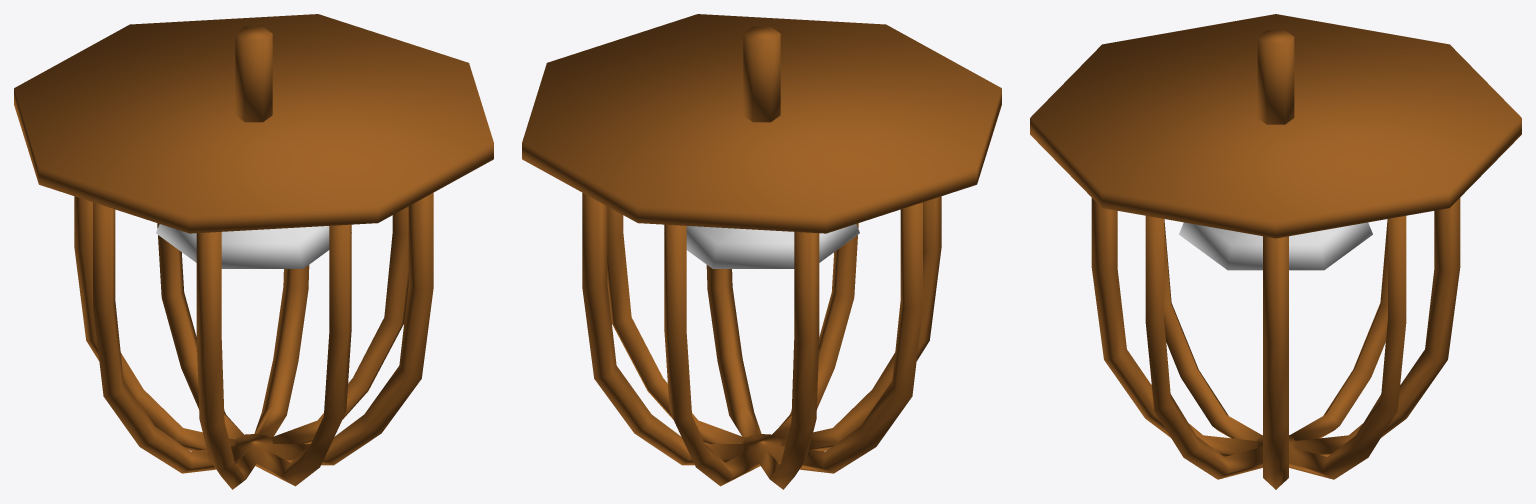
Rendered from light.glb.
The picture shows the model from 3 angles, left to right: view 1: azimuth 30°, elevation 25°; view 2: azimuth 150°, elevation 25°; view 3: azimuth 270°, elevation 25°; orthographic projection.
Visible parts, largest first — view 1: Cylinder.003; view 2: Cylinder.003; view 3: Cylinder.003.
Part boxes in pixels (<box>): Cylinder.003: <box>14,14,493,489</box>; Cylinder.003: <box>522,14,1001,489</box>; Cylinder.003: <box>1030,14,1521,489</box>.
Size of the model in its own units: 0.267 by 0.256 by 0.267.
